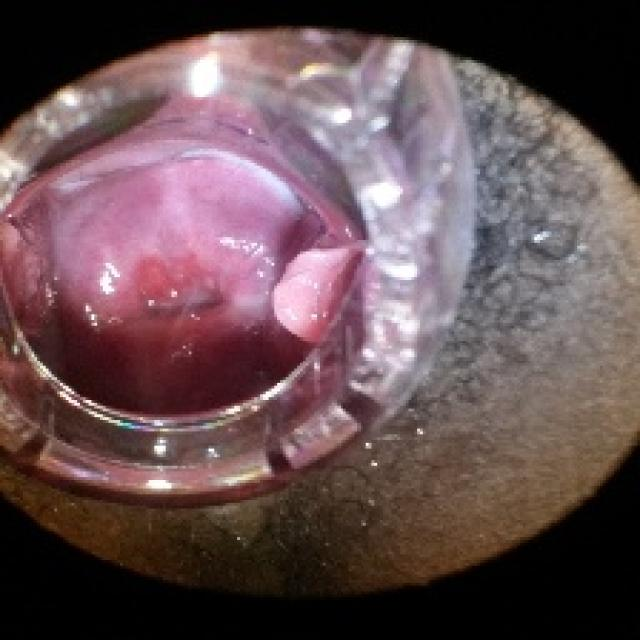type-2: (0, 61, 630, 539)
